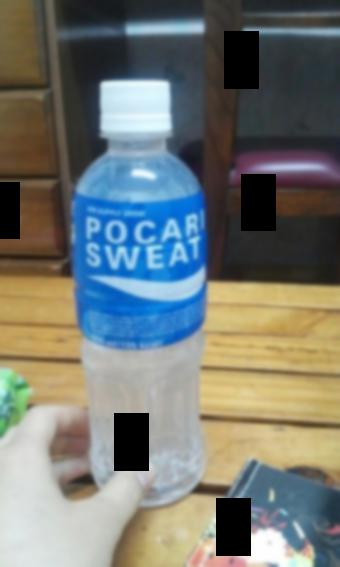pocarisweat: (61, 79, 226, 498)
